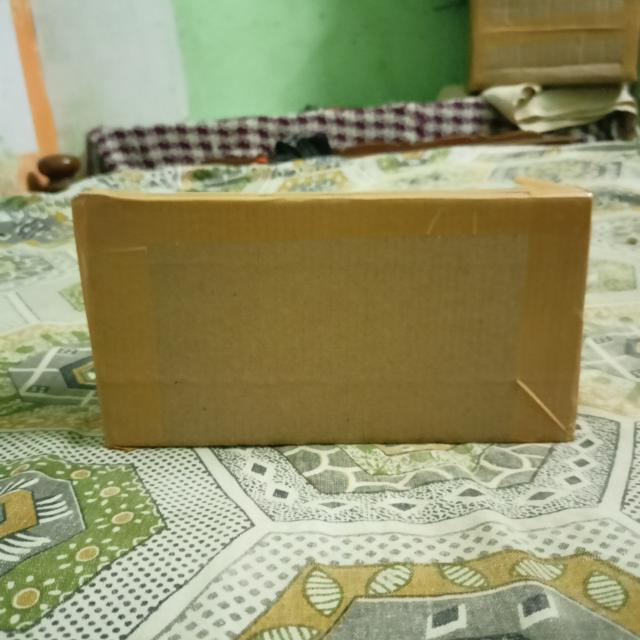box: (71, 204, 580, 447)
